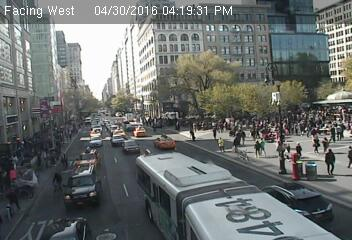neg: (80, 158, 108, 196), (43, 166, 71, 203), (94, 129, 108, 146)
pos: (317, 144, 343, 179), (212, 133, 230, 156)
